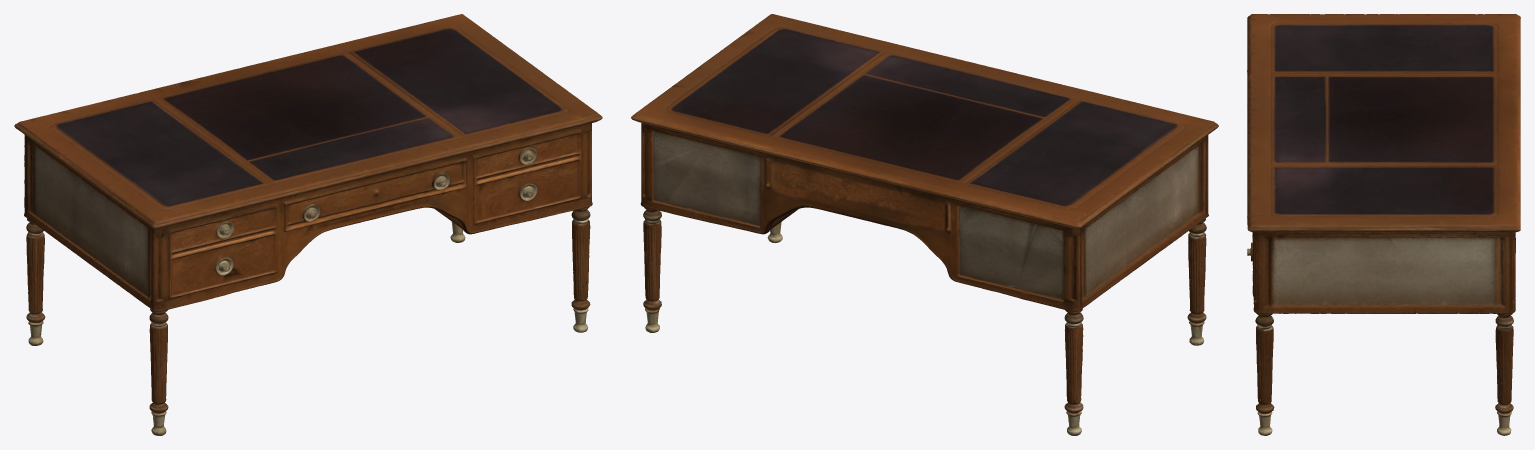
The model's file is Traditional Leather-Inlay Executive Desk [r7Hq9i].glb.
3 views of the same model, side by side, from view 1: azimuth 30°, elevation 25°; view 2: azimuth 150°, elevation 25°; view 3: azimuth 270°, elevation 25° (orthographic). The views are drawn at different scales.
Parts seen in each view (by area): view 1: geometry_0; view 2: geometry_0; view 3: geometry_0.
Boxes of the visible parts, <box> form: geometry_0: <box>14,14,602,435</box>; geometry_0: <box>631,14,1218,435</box>; geometry_0: <box>1247,14,1520,435</box>.
Bounding box in the file's own units: 1 × 0.4689 × 0.5408.
1 material, 1 textured.
